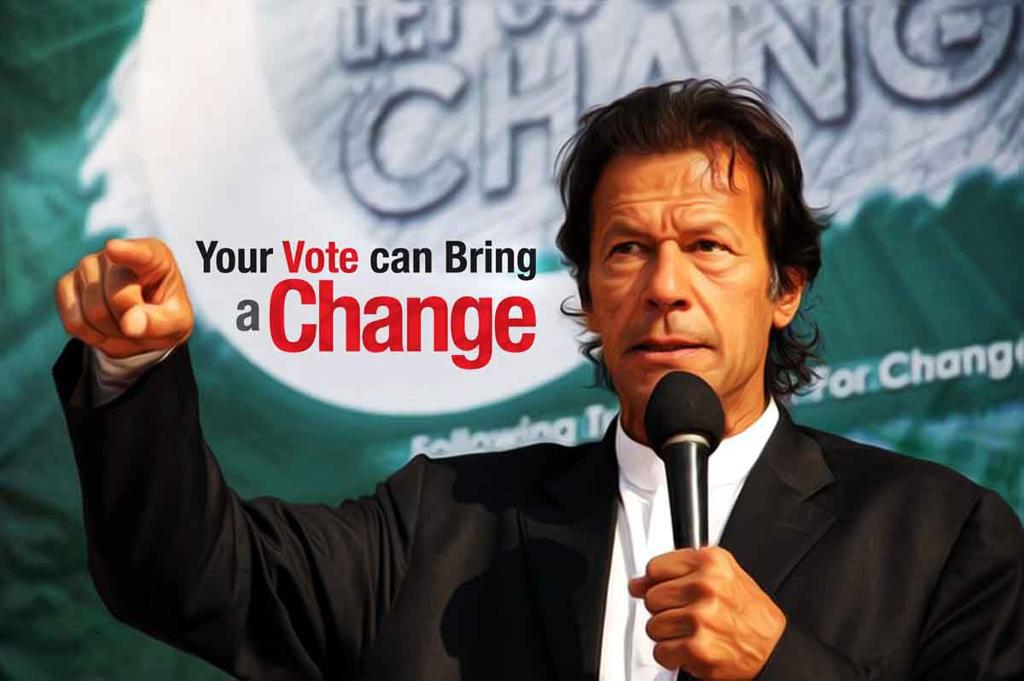face: (591, 155, 771, 395)
